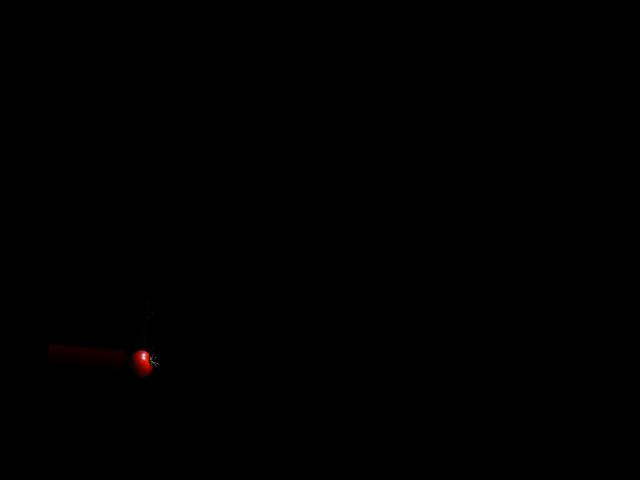tomato: (128, 348, 153, 377)
